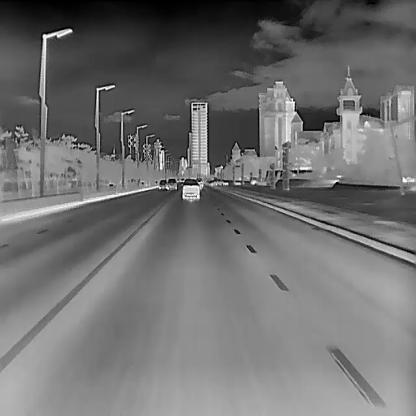car: (182, 178, 199, 200), (166, 176, 176, 191), (209, 178, 223, 186), (196, 176, 203, 188), (158, 180, 168, 188)
